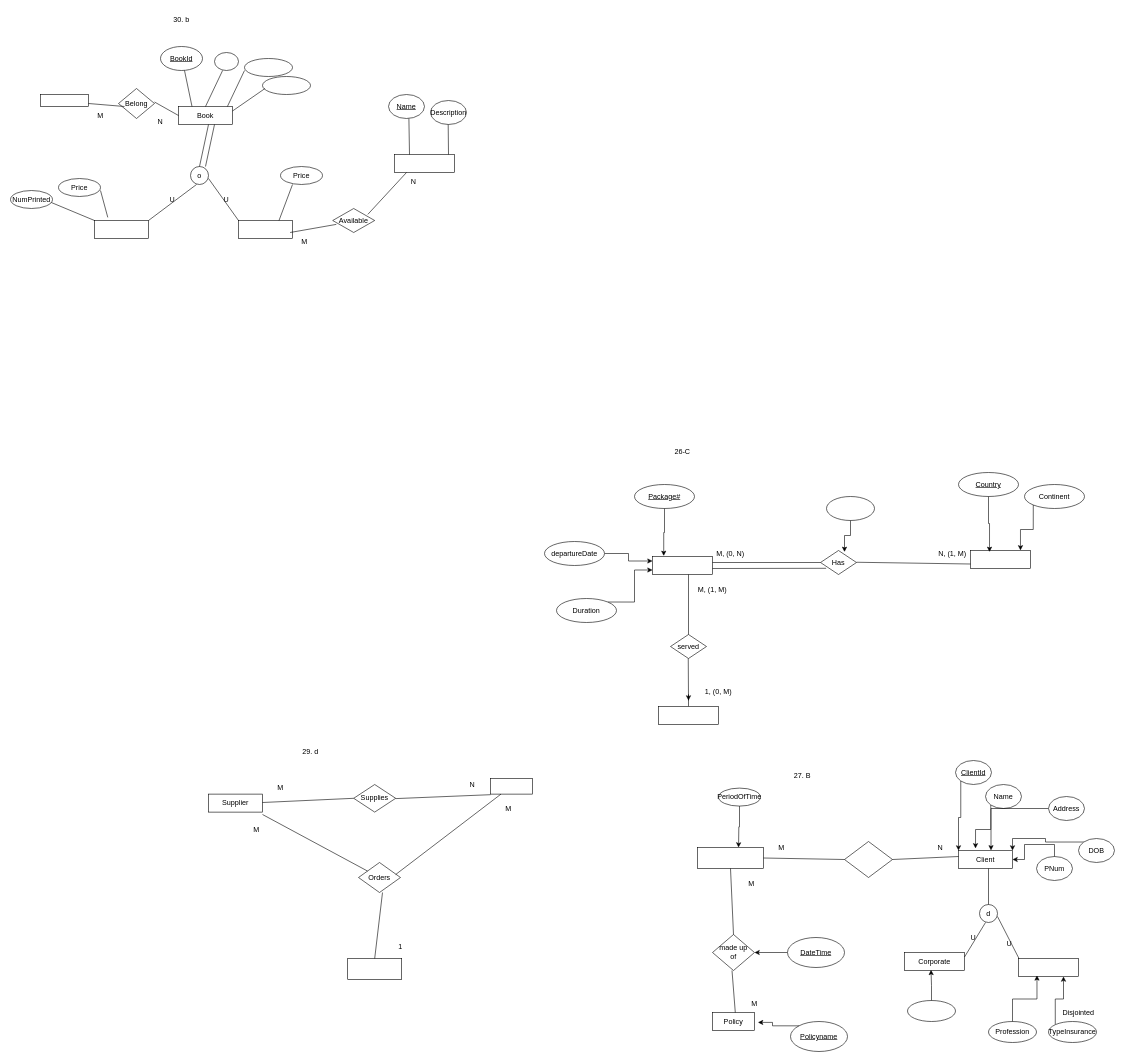
This 1125x1062 diagram has some shape labels left out. The box of each missing label's shape, as (x1, y1, x2, y2) in pixels:
Destination: (970, 550, 1030, 568)
E-Book: (238, 220, 292, 238)
Genre: (40, 94, 88, 106)
InsurancePlan: (697, 847, 764, 868)
Item: (490, 778, 532, 794)
NumDays: (826, 496, 874, 520)
Numpages: (244, 58, 292, 76)
Order: (347, 958, 402, 980)
Package: (652, 556, 712, 574)
Platform: (394, 154, 454, 172)
Printed: (94, 220, 148, 238)
Private: (1018, 958, 1078, 976)
Provider: (658, 706, 718, 724)
Registered: (844, 841, 892, 878)
RegNo: (907, 1000, 956, 1022)
ReleaseDate: (262, 76, 310, 94)
Title: (214, 52, 238, 70)
